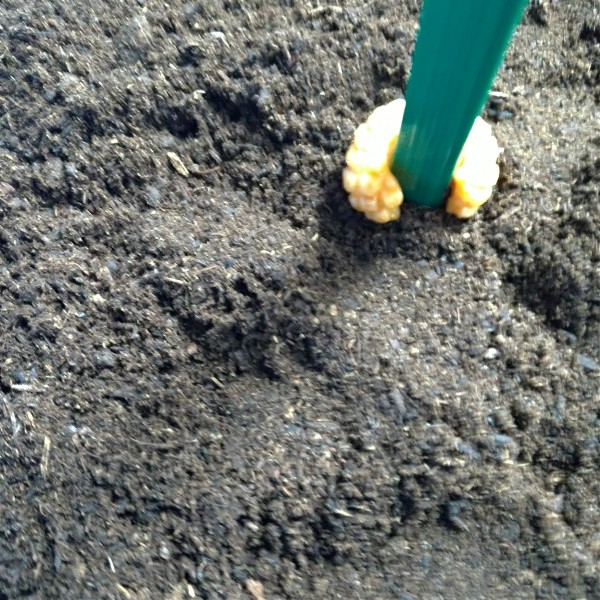eggs: (334, 89, 508, 226)
